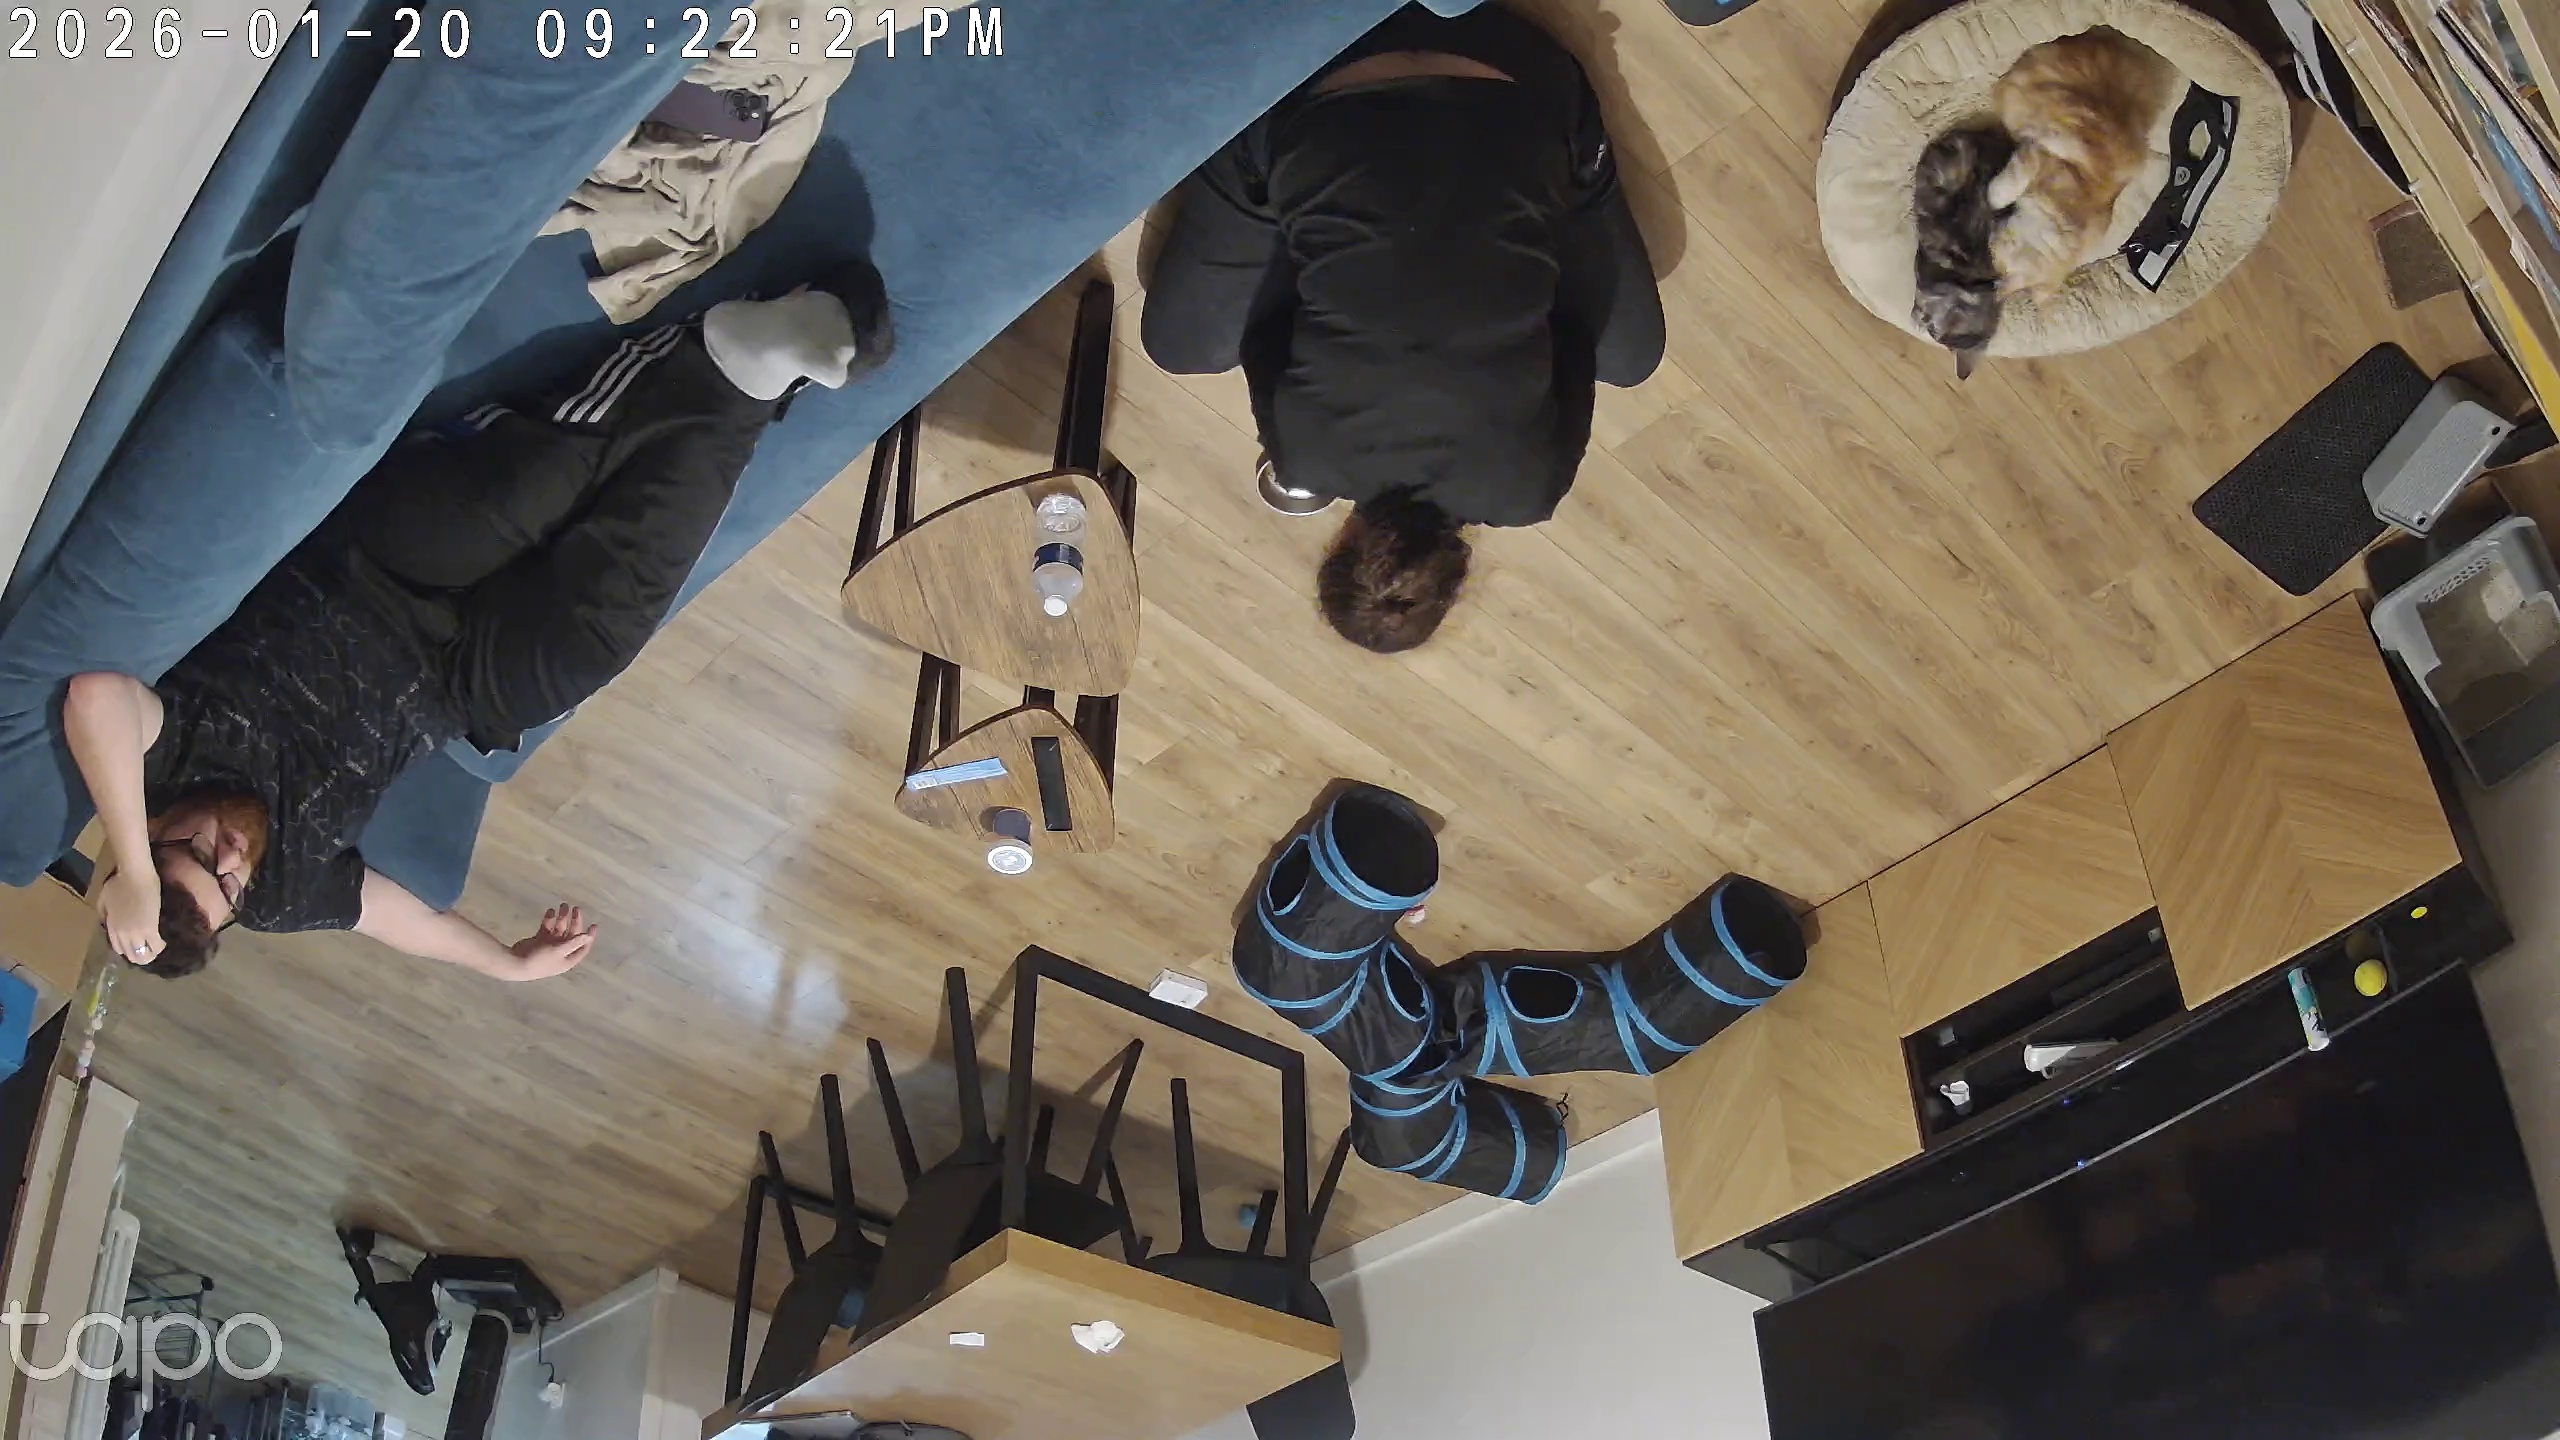Nala: (1890, 86, 2018, 390)
Simba: (1996, 9, 2193, 288)
